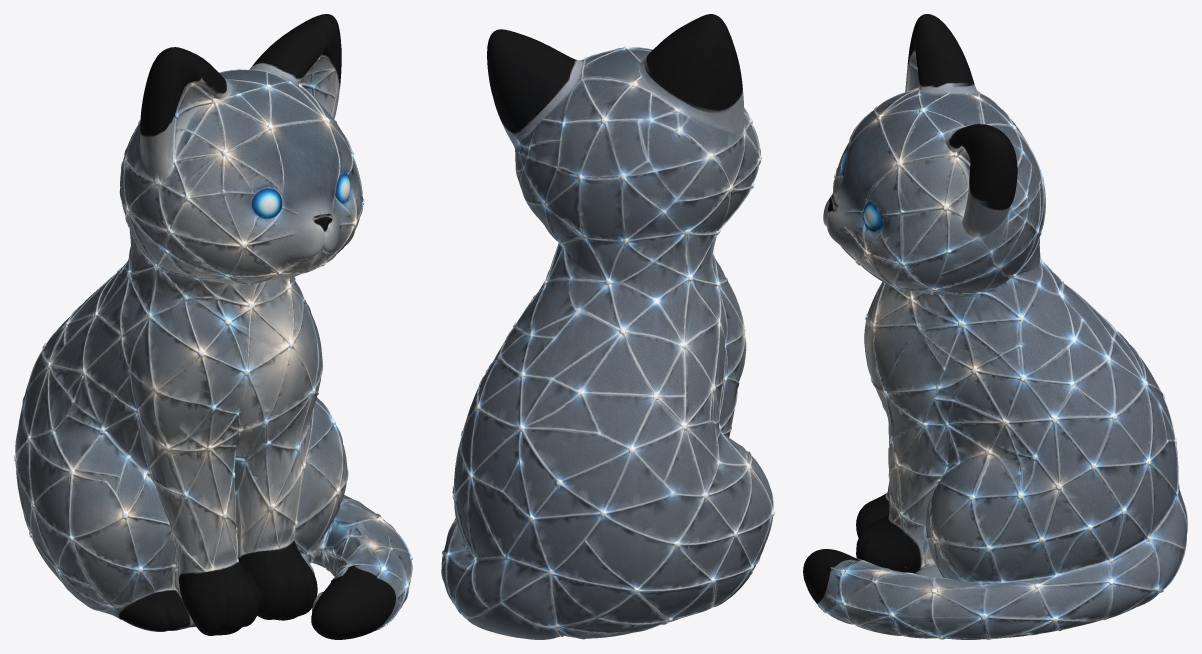
Rendered from pet-cat.glb.
The picture shows the model from 3 angles, left to right: view 1: azimuth 30°, elevation 25°; view 2: azimuth 150°, elevation 25°; view 3: azimuth 270°, elevation 25°; orthographic projection. The views are drawn at different scales.
Parts seen in each view (by area): view 1: Mesh_0.002; view 2: Mesh_0.002; view 3: Mesh_0.002.
Part boxes in pixels (left/top/right/bottom): Mesh_0.002: left=14, top=14, right=412, bottom=639; Mesh_0.002: left=441, top=14, right=774, bottom=639; Mesh_0.002: left=803, top=14, right=1187, bottom=639.
Size of the model in its own units: 0.0863 by 0.15 by 0.0989.
1 material, 1 textured.
